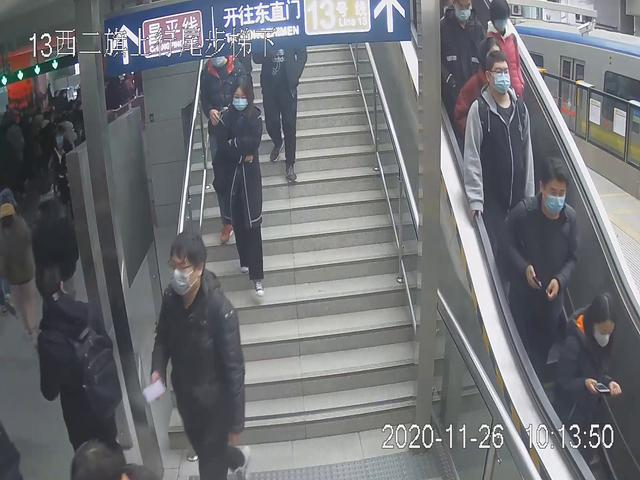person: (151, 231, 259, 480), (491, 154, 585, 388), (460, 50, 538, 266), (537, 287, 626, 472), (210, 73, 270, 303), (251, 38, 312, 187)
